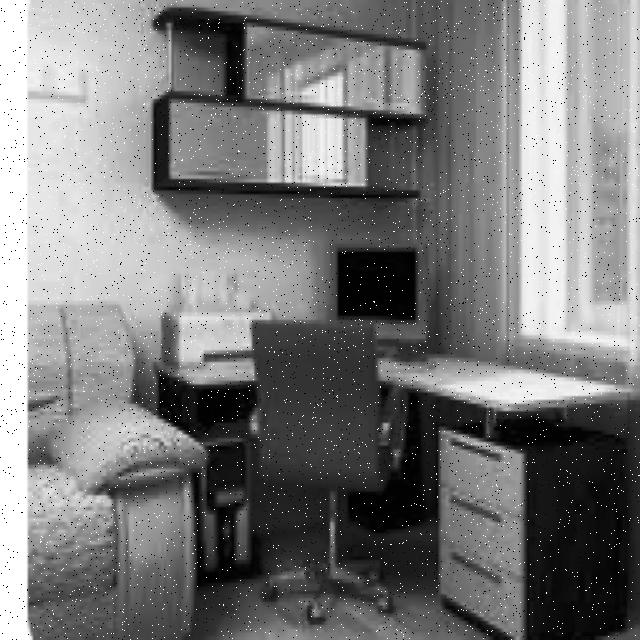book: (252, 316, 396, 621)
table: (156, 343, 635, 640)
